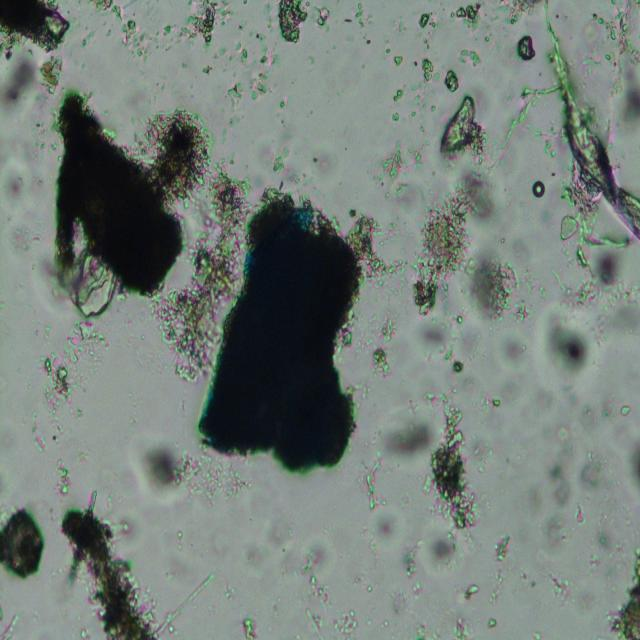Background material: (48, 90, 208, 311), (160, 171, 246, 372), (54, 483, 163, 638), (408, 170, 506, 330), (29, 324, 100, 450), (552, 243, 640, 344), (425, 381, 483, 532), (0, 117, 54, 260), (98, 1, 222, 58), (526, 451, 602, 542), (528, 302, 601, 385), (490, 233, 555, 325), (295, 550, 361, 636), (600, 0, 640, 138), (341, 207, 405, 288), (387, 53, 462, 119), (527, 387, 599, 450), (209, 40, 275, 104), (495, 86, 547, 162), (160, 570, 218, 638), (0, 0, 72, 53), (131, 433, 187, 497), (256, 508, 301, 586), (0, 502, 44, 579), (437, 94, 488, 160), (182, 450, 246, 502), (408, 521, 466, 578), (378, 138, 424, 204), (424, 326, 482, 377), (488, 327, 523, 409), (610, 548, 640, 638), (548, 557, 596, 611), (382, 416, 438, 462), (356, 446, 389, 518), (0, 54, 34, 122), (364, 311, 398, 376), (276, 0, 311, 49), (345, 0, 378, 45), (304, 147, 340, 187), (538, 0, 567, 49), (573, 4, 601, 53), (371, 508, 402, 552), (493, 0, 542, 27), (261, 139, 293, 180), (37, 53, 67, 94), (386, 585, 422, 619), (450, 0, 485, 32), (49, 458, 76, 499), (0, 606, 30, 640), (487, 569, 509, 613), (318, 66, 344, 96), (418, 11, 436, 52), (624, 441, 640, 486), (458, 43, 482, 70), (516, 31, 536, 63), (495, 532, 513, 565), (450, 613, 472, 638), (408, 623, 440, 640), (609, 394, 635, 414), (317, 4, 334, 33), (520, 562, 534, 592), (242, 616, 258, 639), (464, 582, 480, 600), (532, 179, 545, 198), (280, 92, 288, 122), (527, 630, 544, 640), (488, 613, 496, 631)
Cellulose filter fibre: (549, 48, 640, 240)
Fragment: (196, 190, 359, 470)
